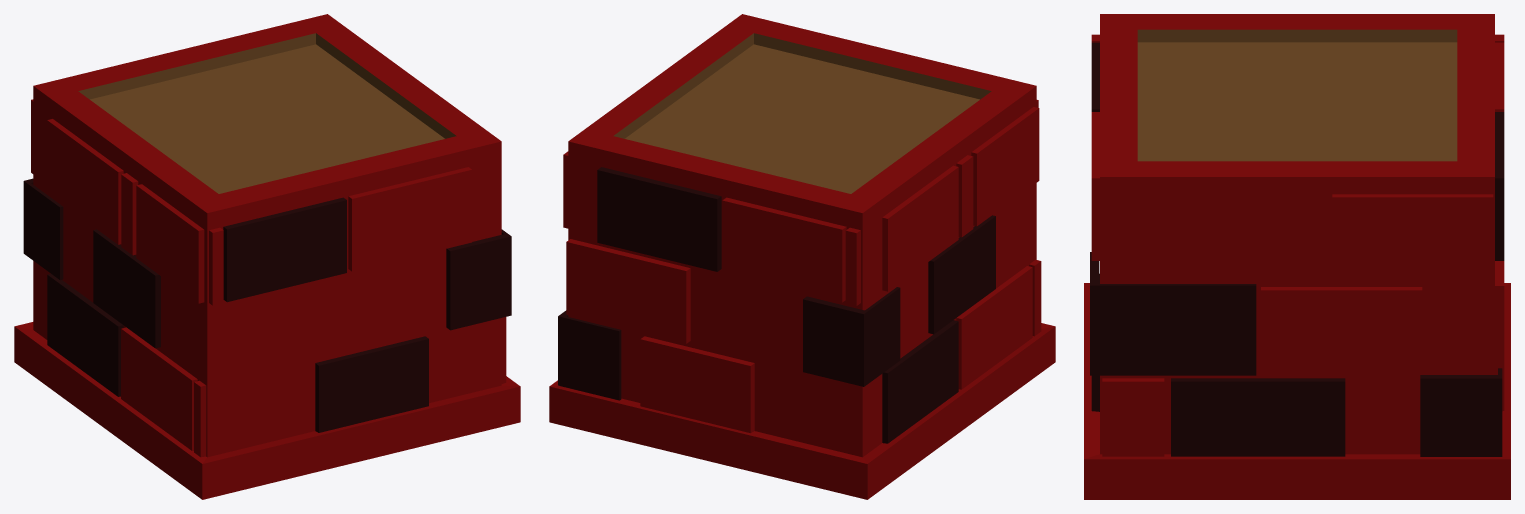
The model's file is Brick.fbx.
The picture shows the model from 3 angles, left to right: view 1: azimuth 30°, elevation 25°; view 2: azimuth 150°, elevation 25°; view 3: azimuth 270°, elevation 25°; orthographic projection. The views are drawn at different scales.
Parts seen in each view (by area): view 1: BRICK; view 2: BRICK; view 3: BRICK.
Part boxes in pixels (<box>): BRICK: <box>14,14,520,499</box>; BRICK: <box>549,14,1055,499</box>; BRICK: <box>1084,14,1510,499</box>.
Size of the model in its own units: 96.76 by 81.01 by 99.1.
